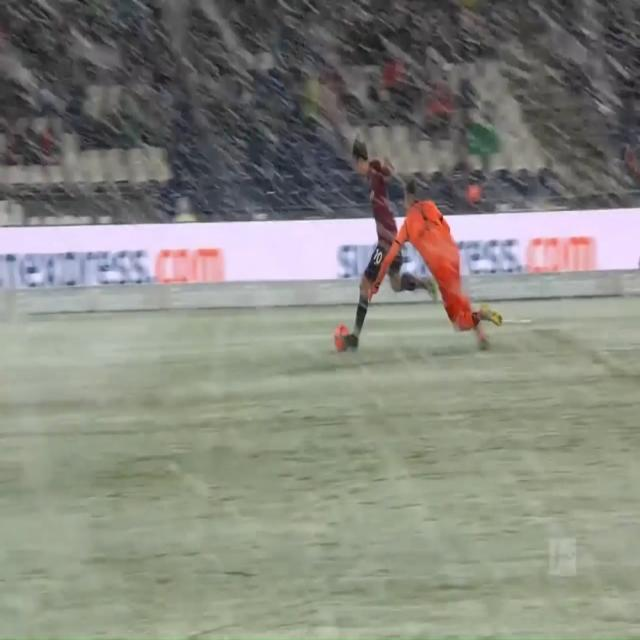ball: (328, 323, 350, 355)
goalkeeper: (369, 183, 518, 362)
player: (331, 111, 406, 364)
